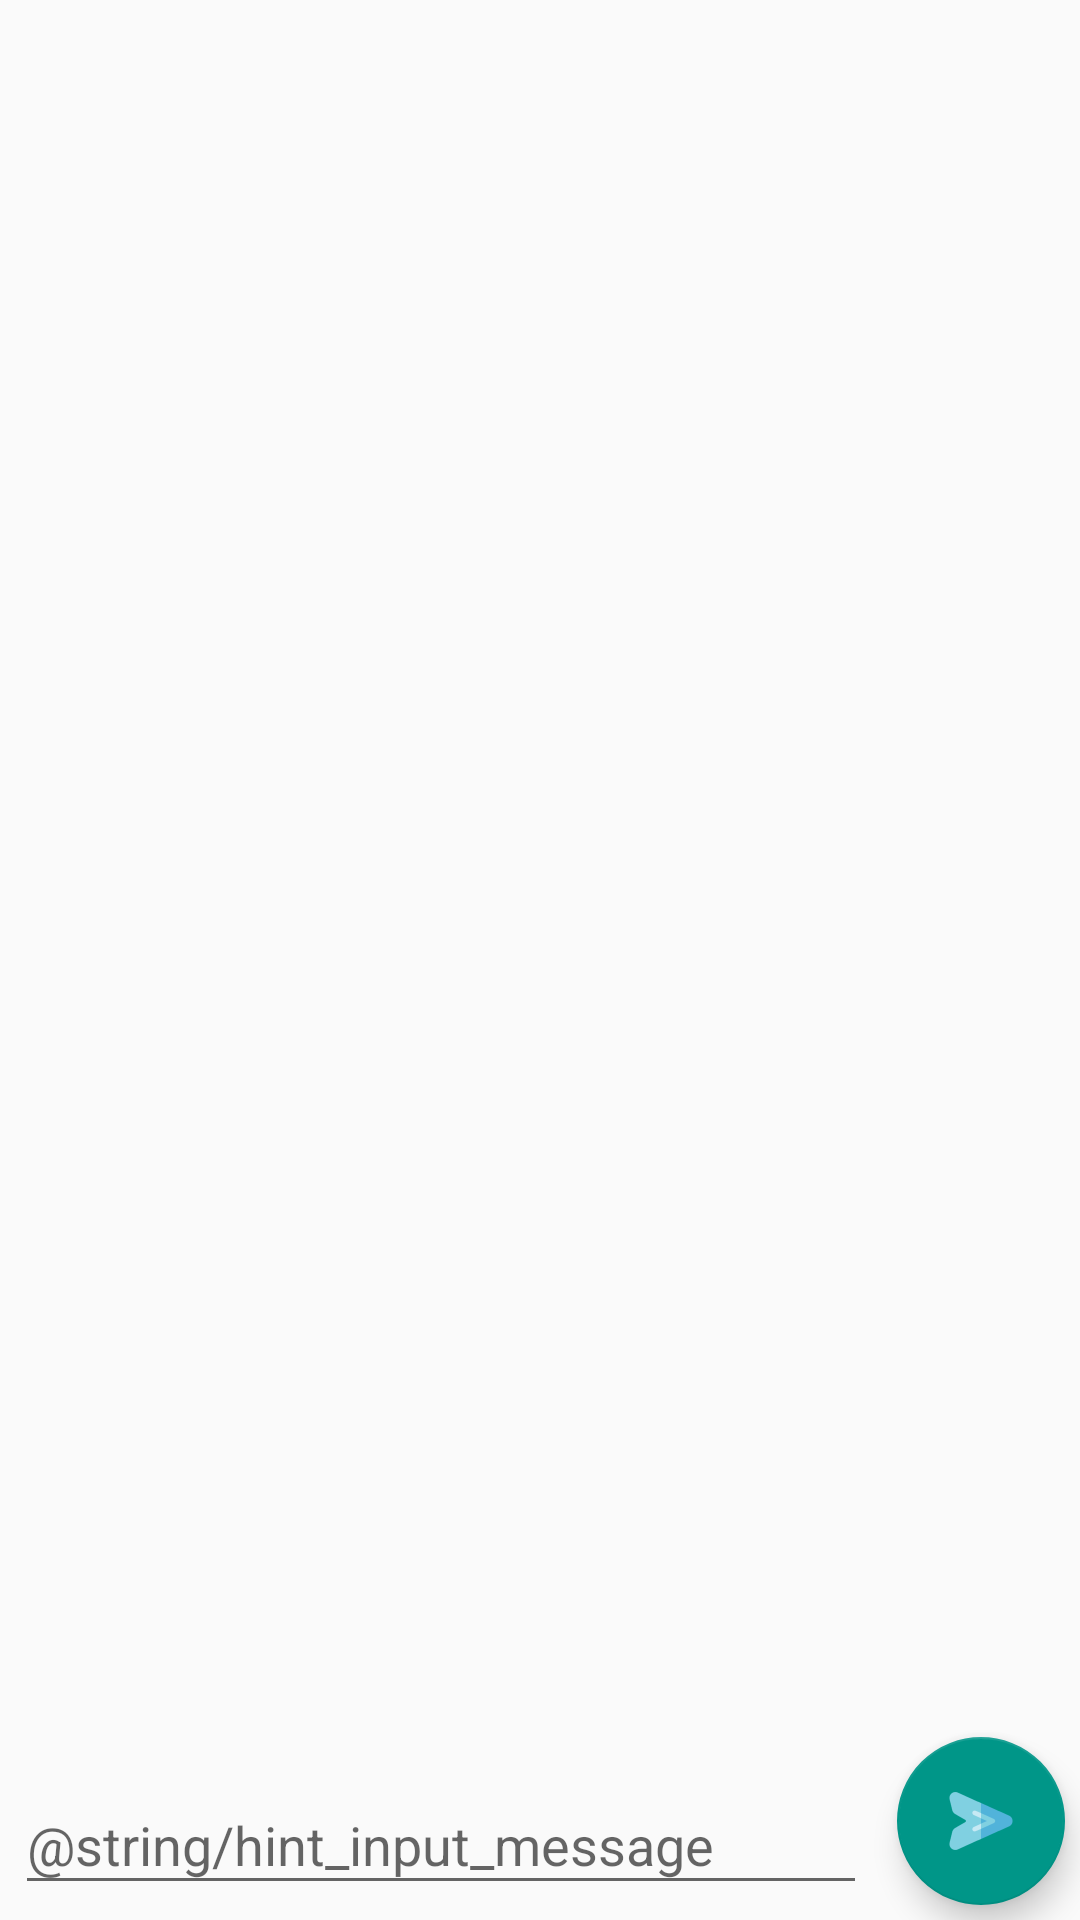

Where to tap for icons on this 1080*1920 app screen, as point (x, y):
send: point (981, 1821)
